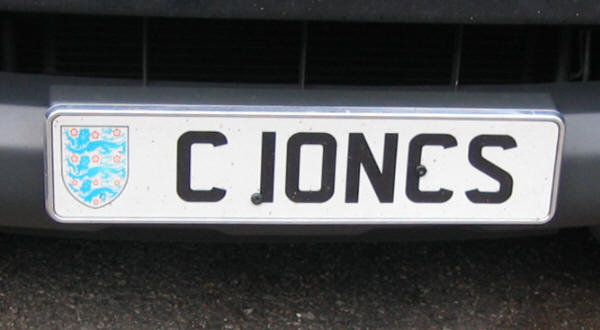license_plate: (52, 116, 559, 222)
